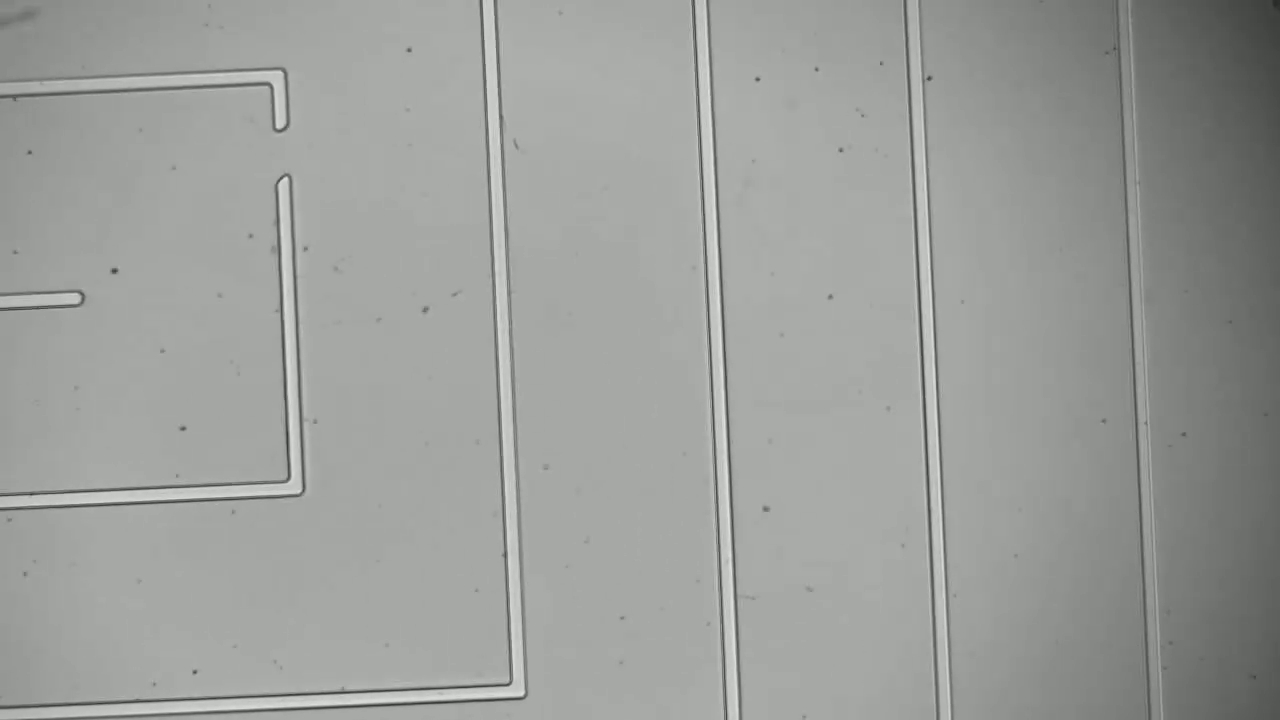open: (246, 107, 315, 210)
